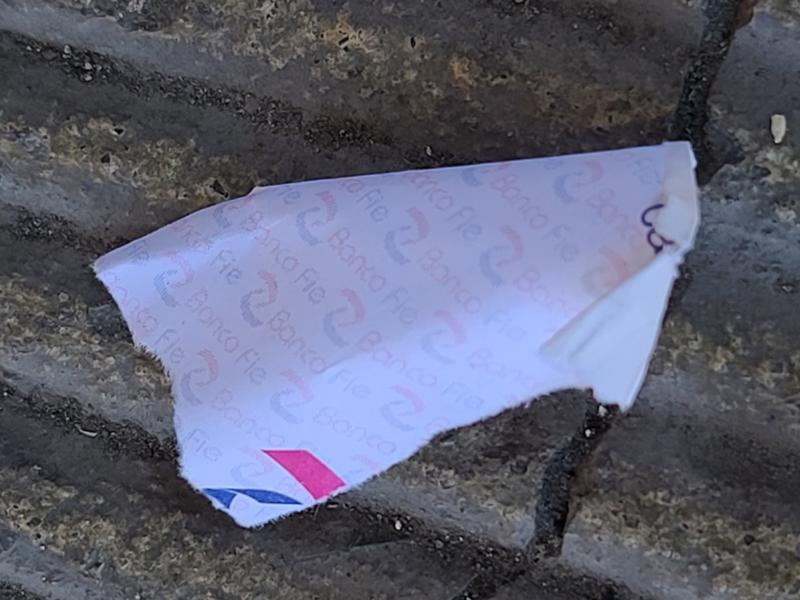papel: (90, 141, 702, 529)
